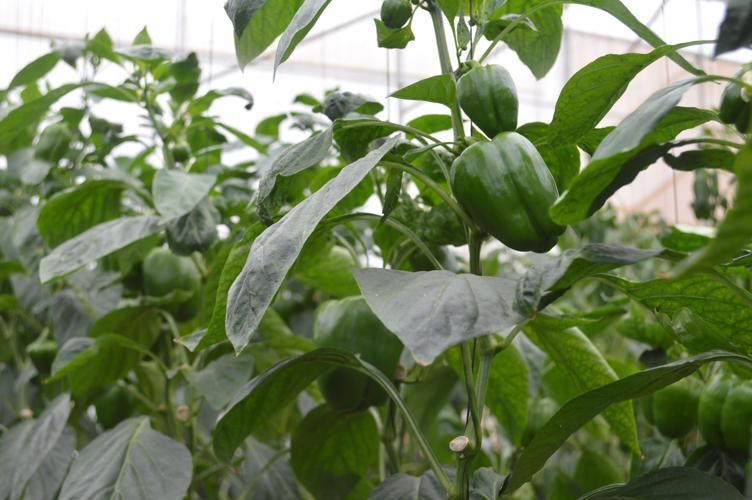BellPepper: (448, 135, 567, 254), (301, 297, 397, 407), (447, 64, 514, 136), (633, 365, 698, 437), (139, 255, 205, 323), (701, 378, 746, 455)
